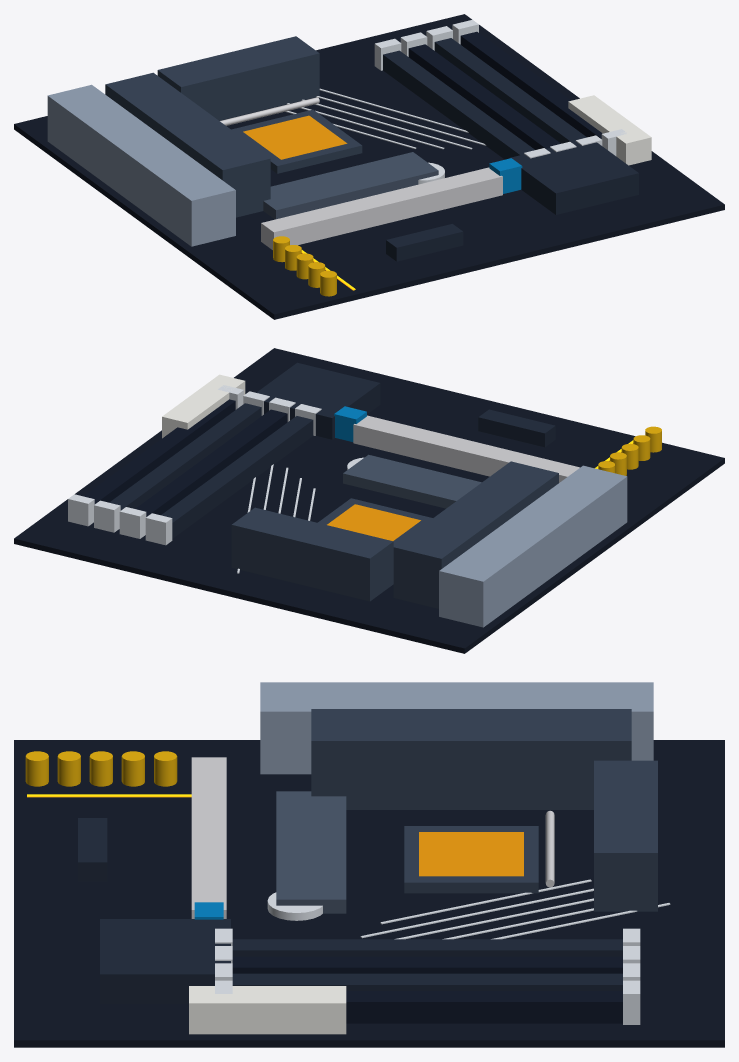
File: motherboard.glb
3 renders of one model, top to bottom at view 1: azimuth 30°, elevation 25°; view 2: azimuth 150°, elevation 25°; view 3: azimuth 270°, elevation 25°, orthographic. The views are drawn at different scales.
Bounding box in the file's own units: 0.244 × 0.029 × 0.244.
